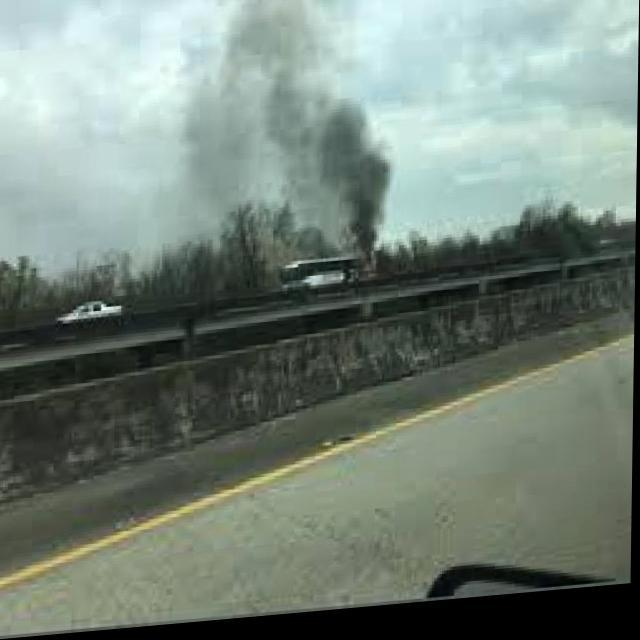Smoke: (161, 0, 413, 325)
